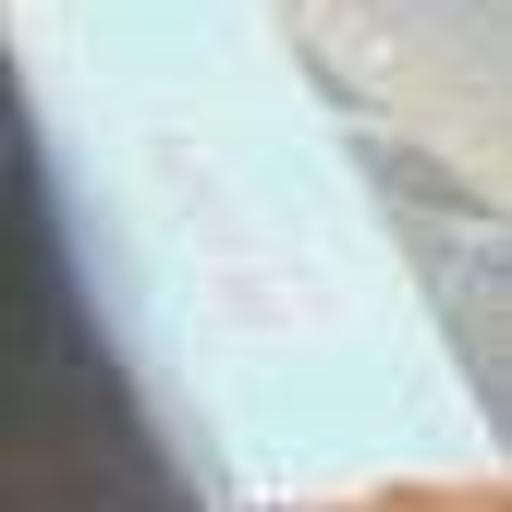Other: (1, 0, 504, 497)
